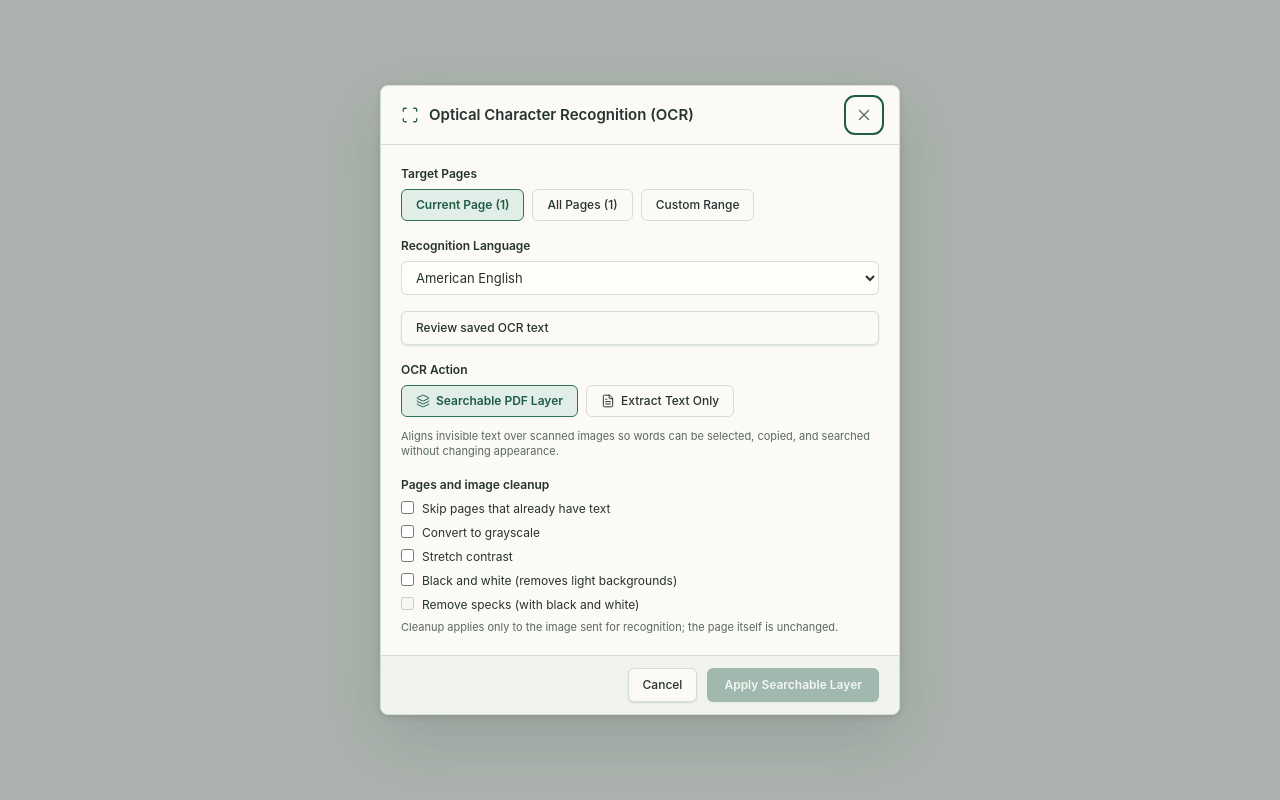
Scenario: OcrPanel UI Component (P6.4) › switches to text extraction mode and displays recognized text
The image size is (1280, 800).
Switch to text extraction
Click the button "Extract Text Only" at (660, 401), box top-left (586, 385), bottom-right (734, 417)
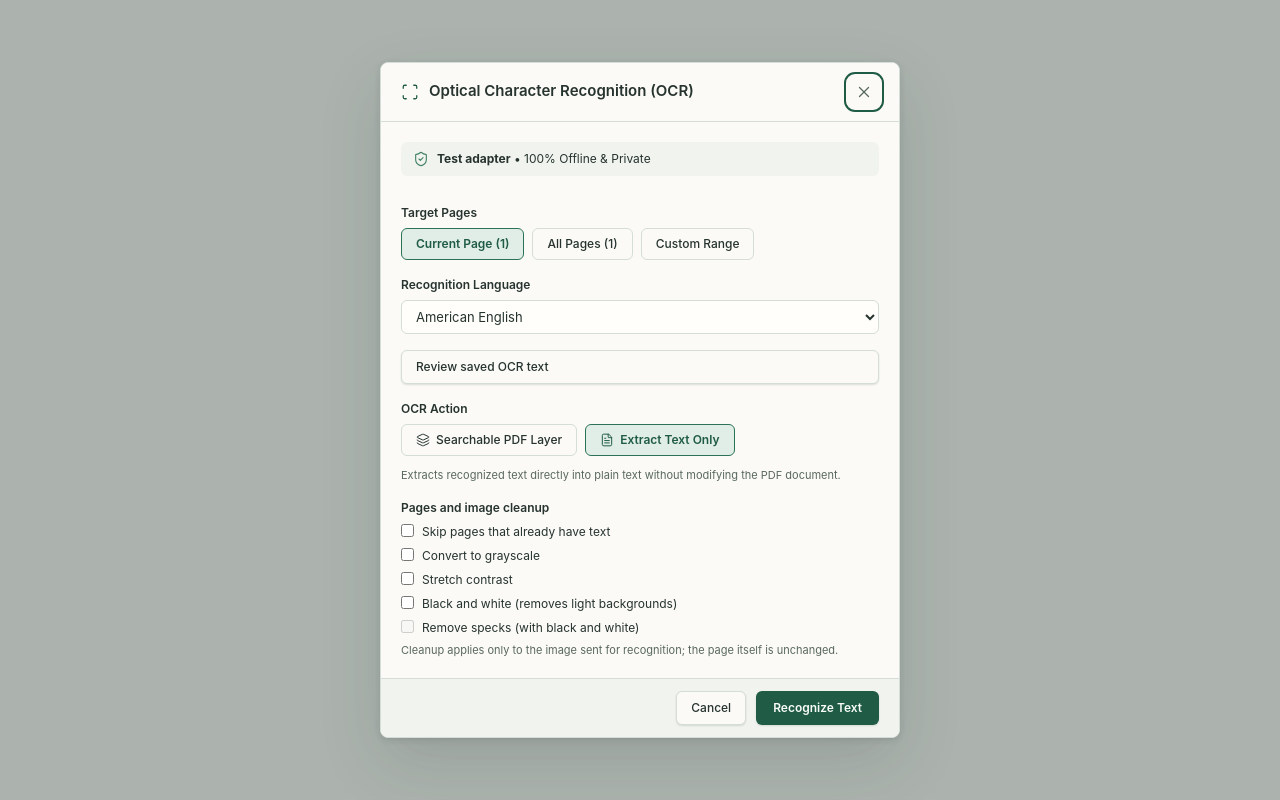
expect the button "Recognize Text" is enabled: met
Click the button "Recognize Text" at (818, 708), box top-left (756, 691), bottom-right (879, 725)
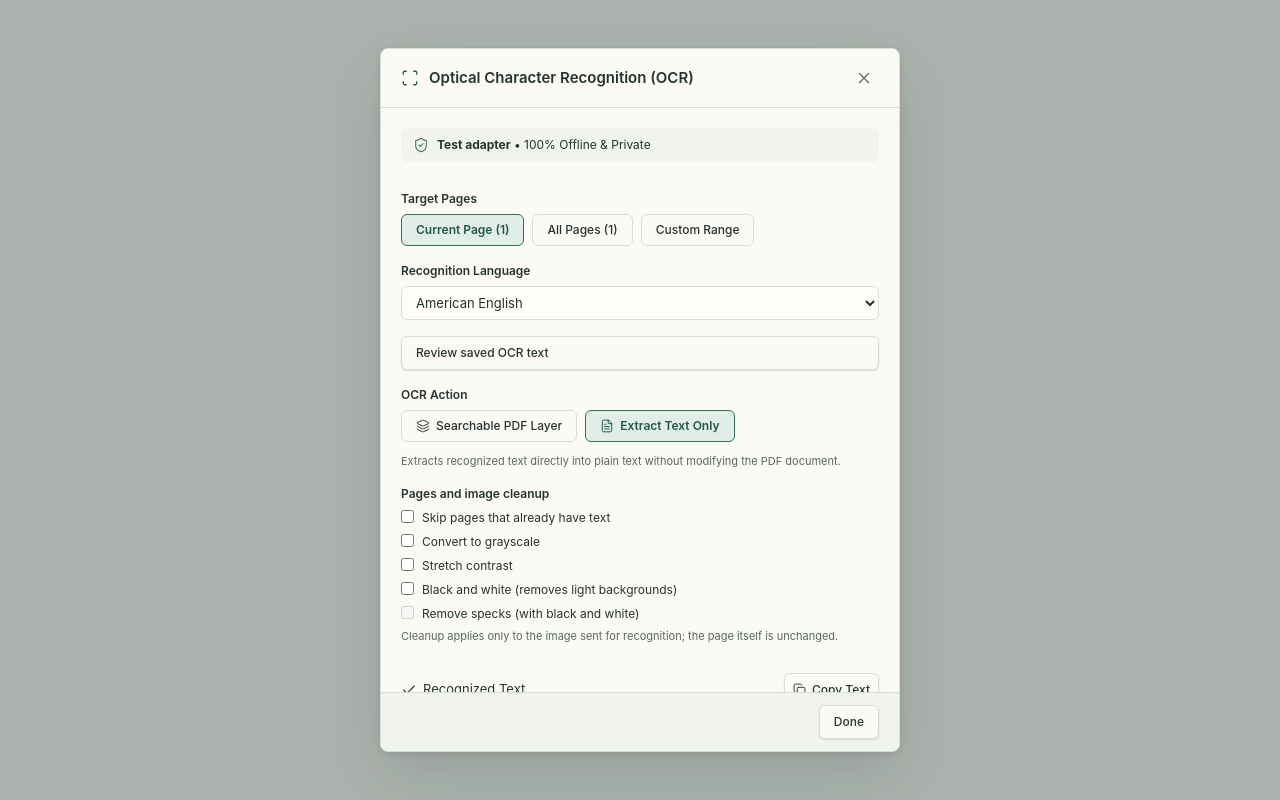
expect the text "Recognized Text" is shown: met, box top-left (423, 680), bottom-right (525, 692)
